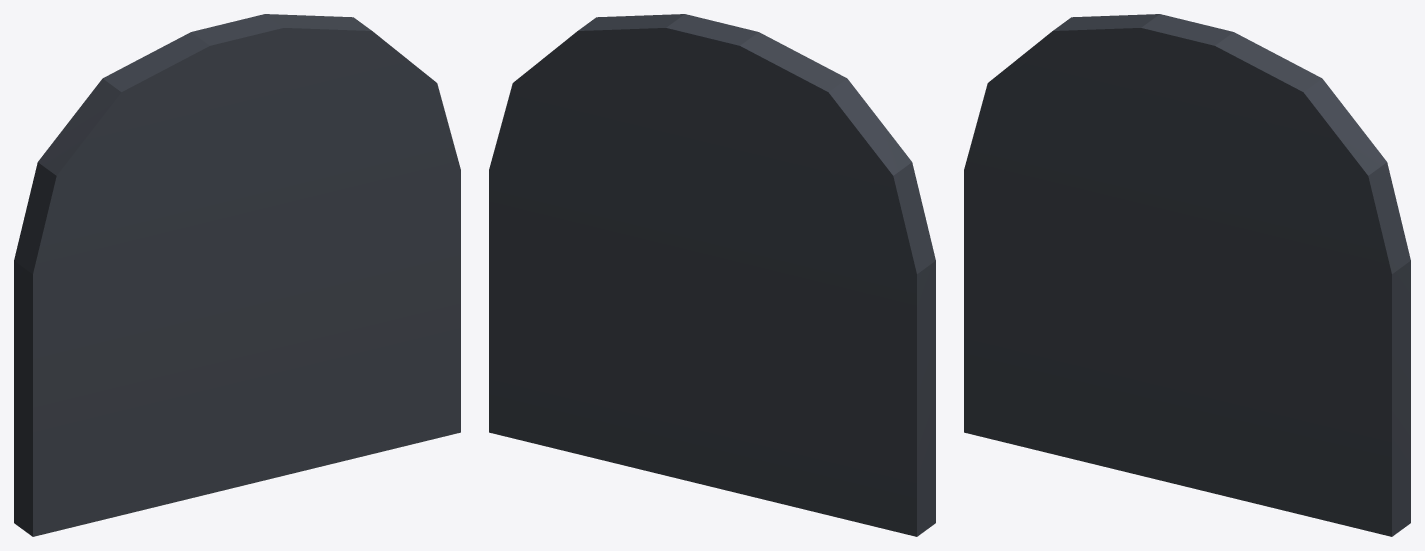
File: Mailbox_06.fbx
3 views of the same model, side by side, from view 1: azimuth 30°, elevation 25°; view 2: azimuth 150°, elevation 25°; view 3: azimuth 330°, elevation 25° (orthographic).
Visible parts, largest first — view 1: Mailbox_06; view 2: Mailbox_06; view 3: Mailbox_06.
Part boxes in pixels (x1,y1,x2,y2): Mailbox_06: (14,14,460,536); Mailbox_06: (489,14,935,536); Mailbox_06: (964,14,1410,536).
Bounding box in the file's own units: 0.2398 × 0.2398 × 0.0184.
